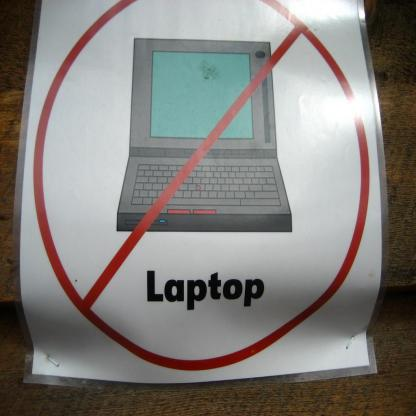board: (96, 40, 335, 240)
